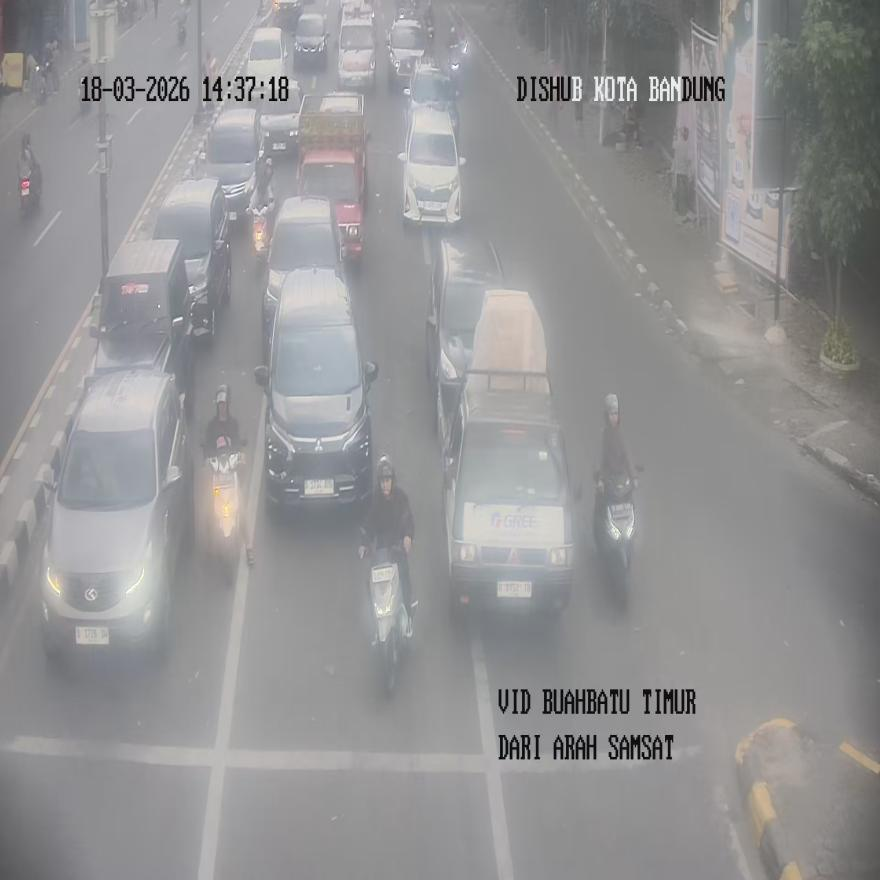Mobil: (442, 290, 580, 619), (39, 368, 192, 660), (254, 266, 378, 509), (88, 240, 191, 412), (426, 235, 505, 438), (261, 196, 346, 362), (152, 176, 231, 337), (399, 105, 465, 224), (338, 2, 377, 91)
